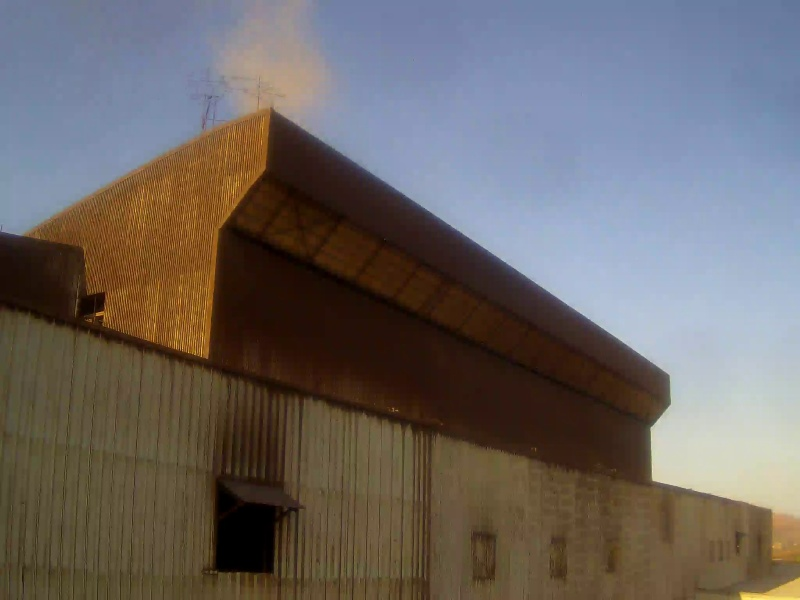bom: (347, 3, 800, 442), (645, 120, 790, 522), (1, 2, 160, 188)
ruim: (180, 3, 343, 133)
